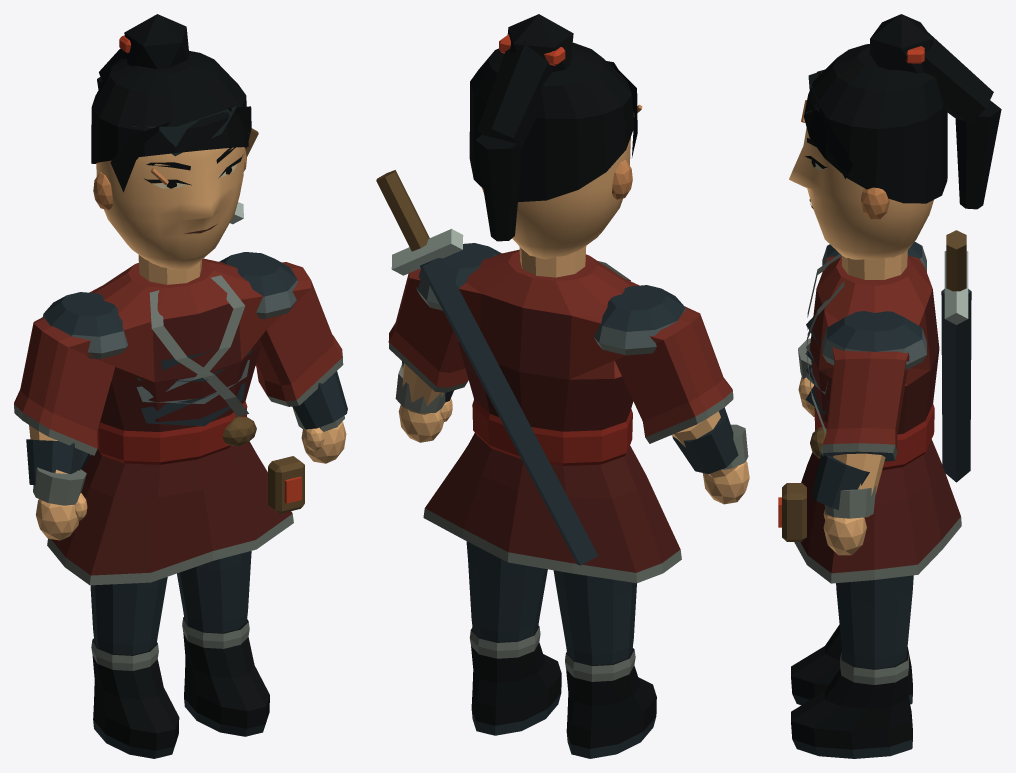
Rendered from LuYing_Parts.fbx.
The picture shows the model from 3 angles, left to right: view 1: azimuth 30°, elevation 25°; view 2: azimuth 150°, elevation 25°; view 3: azimuth 270°, elevation 25°; orthographic projection. The views are drawn at different scales.
Visible parts, largest first — view 1: Short robe, Swept hair cap, Angular oversized head, Cloth boot, Cloth boot.001, Trouser, Trouser.001, Iron shoulder, Iron shoulder.001, High tied hair, Forearm plate.001, Forearm plate (+11 smaller); view 2: Short robe, Swept hair cap, Sword scabbard, Cloth boot.001, Cloth boot, Trouser, Angular oversized head, Trouser.001, Ponytail upper, Iron shoulder, Ponytail lower, Forearm plate (+11 smaller); view 3: Short robe, Swept hair cap, Cloth boot.001, Angular oversized head, Trouser.001, Sword scabbard, Iron shoulder.001, Ponytail lower, Ponytail upper, High tied hair, Cloth boot, Forearm plate.001 (+10 smaller).
Boxes of the visible parts, x1,y1,x2,y2 form: Short robe: (14,258,343,585); Swept hair cap: (91,51,248,163); Angular oversized head: (96,147,244,270); Cloth boot: (91,638,179,758); Cloth boot.001: (182,617,269,736); Trouser: (90,577,167,654); Trouser.001: (177,551,251,632); Iron shoulder: (42,292,127,359); Iron shoulder.001: (219,252,297,318); High tied hair: (124,14,189,69); Forearm plate.001: (293,371,347,429); Forearm plate: (26,439,83,485); Short robe: (388,249,733,583); Swept hair cap: (469,42,634,201); Sword scabbard: (420,258,598,565); Cloth boot.001: (469,625,561,735); Cloth boot: (565,648,656,758); Trouser: (553,570,636,665); Angular oversized head: (481,137,630,259); Trouser.001: (466,541,547,642); Ponytail upper: (477,41,551,148); Iron shoulder: (593,285,685,355); Ponytail lower: (475,135,522,241); Forearm plate: (672,407,738,474); Short robe: (794,255,961,583); Swept hair cap: (804,44,947,203); Cloth boot.001: (791,651,912,758); Angular oversized head: (789,128,933,259); Trouser.001: (836,575,913,668); Sword scabbard: (941,289,971,482); Iron shoulder.001: (822,311,926,370); Ponytail lower: (955,100,1001,209); Ponytail upper: (921,31,993,124); High tied hair: (870,14,932,73); Cloth boot: (791,624,912,705); Forearm plate.001: (811,453,869,509).
Bounding box in the file's own units: 112 × 234 × 66.79.
1 material, 1 textured.
